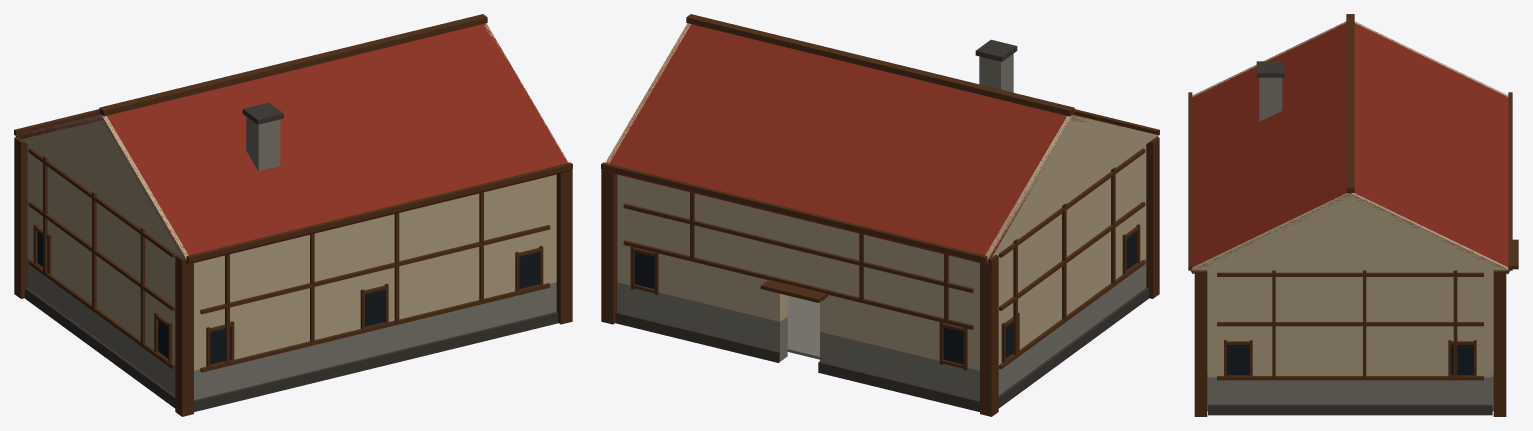
File: oakford_house.glb
3 views of the same model, side by side, from view 1: azimuth 30°, elevation 25°; view 2: azimuth 150°, elevation 25°; view 3: azimuth 270°, elevation 25° (orthographic). The views are drawn at different scales.
Parts seen in each view (by area): view 1: oakford_house_roof, oakford_house_plaster, oakford_house_timber, oakford_house_stone, oakford_house_plinth, oakford_house_glass; view 2: oakford_house_roof, oakford_house_plaster, oakford_house_timber, oakford_house_stone, oakford_house_plinth, oakford_house_glass; view 3: oakford_house_roof, oakford_house_plaster, oakford_house_timber, oakford_house_stone, oakford_house_plinth, oakford_house_glass.
Boxes of the visible parts, x1,y1,x2,y2 form: oakford_house_roof: (15, 23, 570, 264); oakford_house_plaster: (15, 23, 568, 370); oakford_house_timber: (14, 14, 572, 416); oakford_house_stone: (27, 116, 556, 400); oakford_house_plinth: (25, 102, 558, 411); oakford_house_glass: (37, 232, 539, 364); oakford_house_roof: (603, 23, 1158, 264); oakford_house_plaster: (605, 23, 1158, 370); oakford_house_timber: (601, 14, 1159, 416); oakford_house_stone: (617, 54, 1146, 400); oakford_house_plinth: (615, 39, 1148, 411); oakford_house_glass: (634, 232, 1136, 364); oakford_house_roof: (1191, 22, 1509, 273); oakford_house_plaster: (1191, 21, 1509, 377); oakford_house_timber: (1188, 14, 1518, 416); oakford_house_stone: (1207, 77, 1493, 411); oakford_house_plinth: (1208, 61, 1492, 415); oakford_house_glass: (1227, 345, 1473, 375).
Size of the model in its own units: 11.76 by 7.08 by 9.29.
